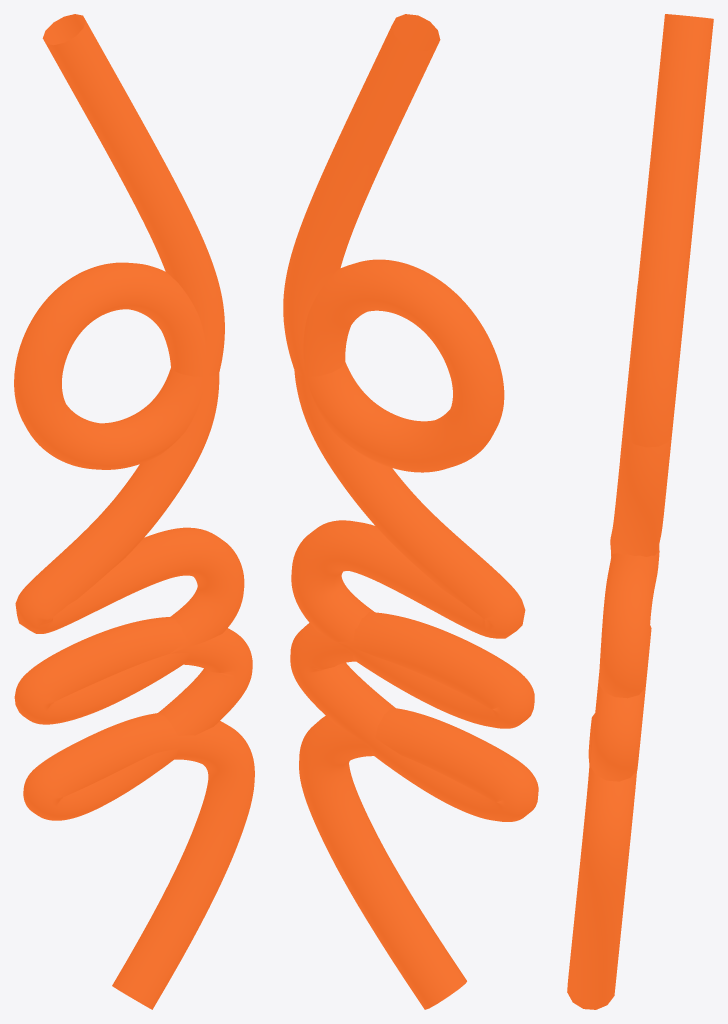
File: osl.glb
3 renders of one model, left to right at view 1: azimuth 30°, elevation 25°; view 2: azimuth 150°, elevation 25°; view 3: azimuth 270°, elevation 25°, orthographic. The views are drawn at different scales.
Parts seen in each view (by area): view 1: OSL; view 2: OSL; view 3: OSL.
Boxes of the visible parts, x1,y1,x2,y2 form: OSL: (14,14,254,1009); OSL: (283,14,538,1009); OSL: (567,14,713,1009).
Bounding box in the file's own units: 0.3766 × 1.53 × 0.2059.
